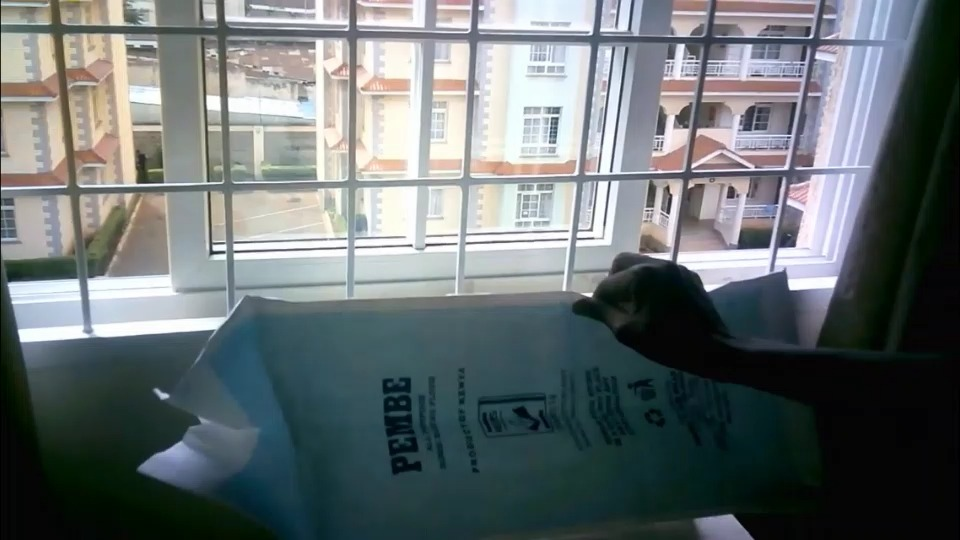wheat_flour_blue_label: (237, 271, 828, 533)
